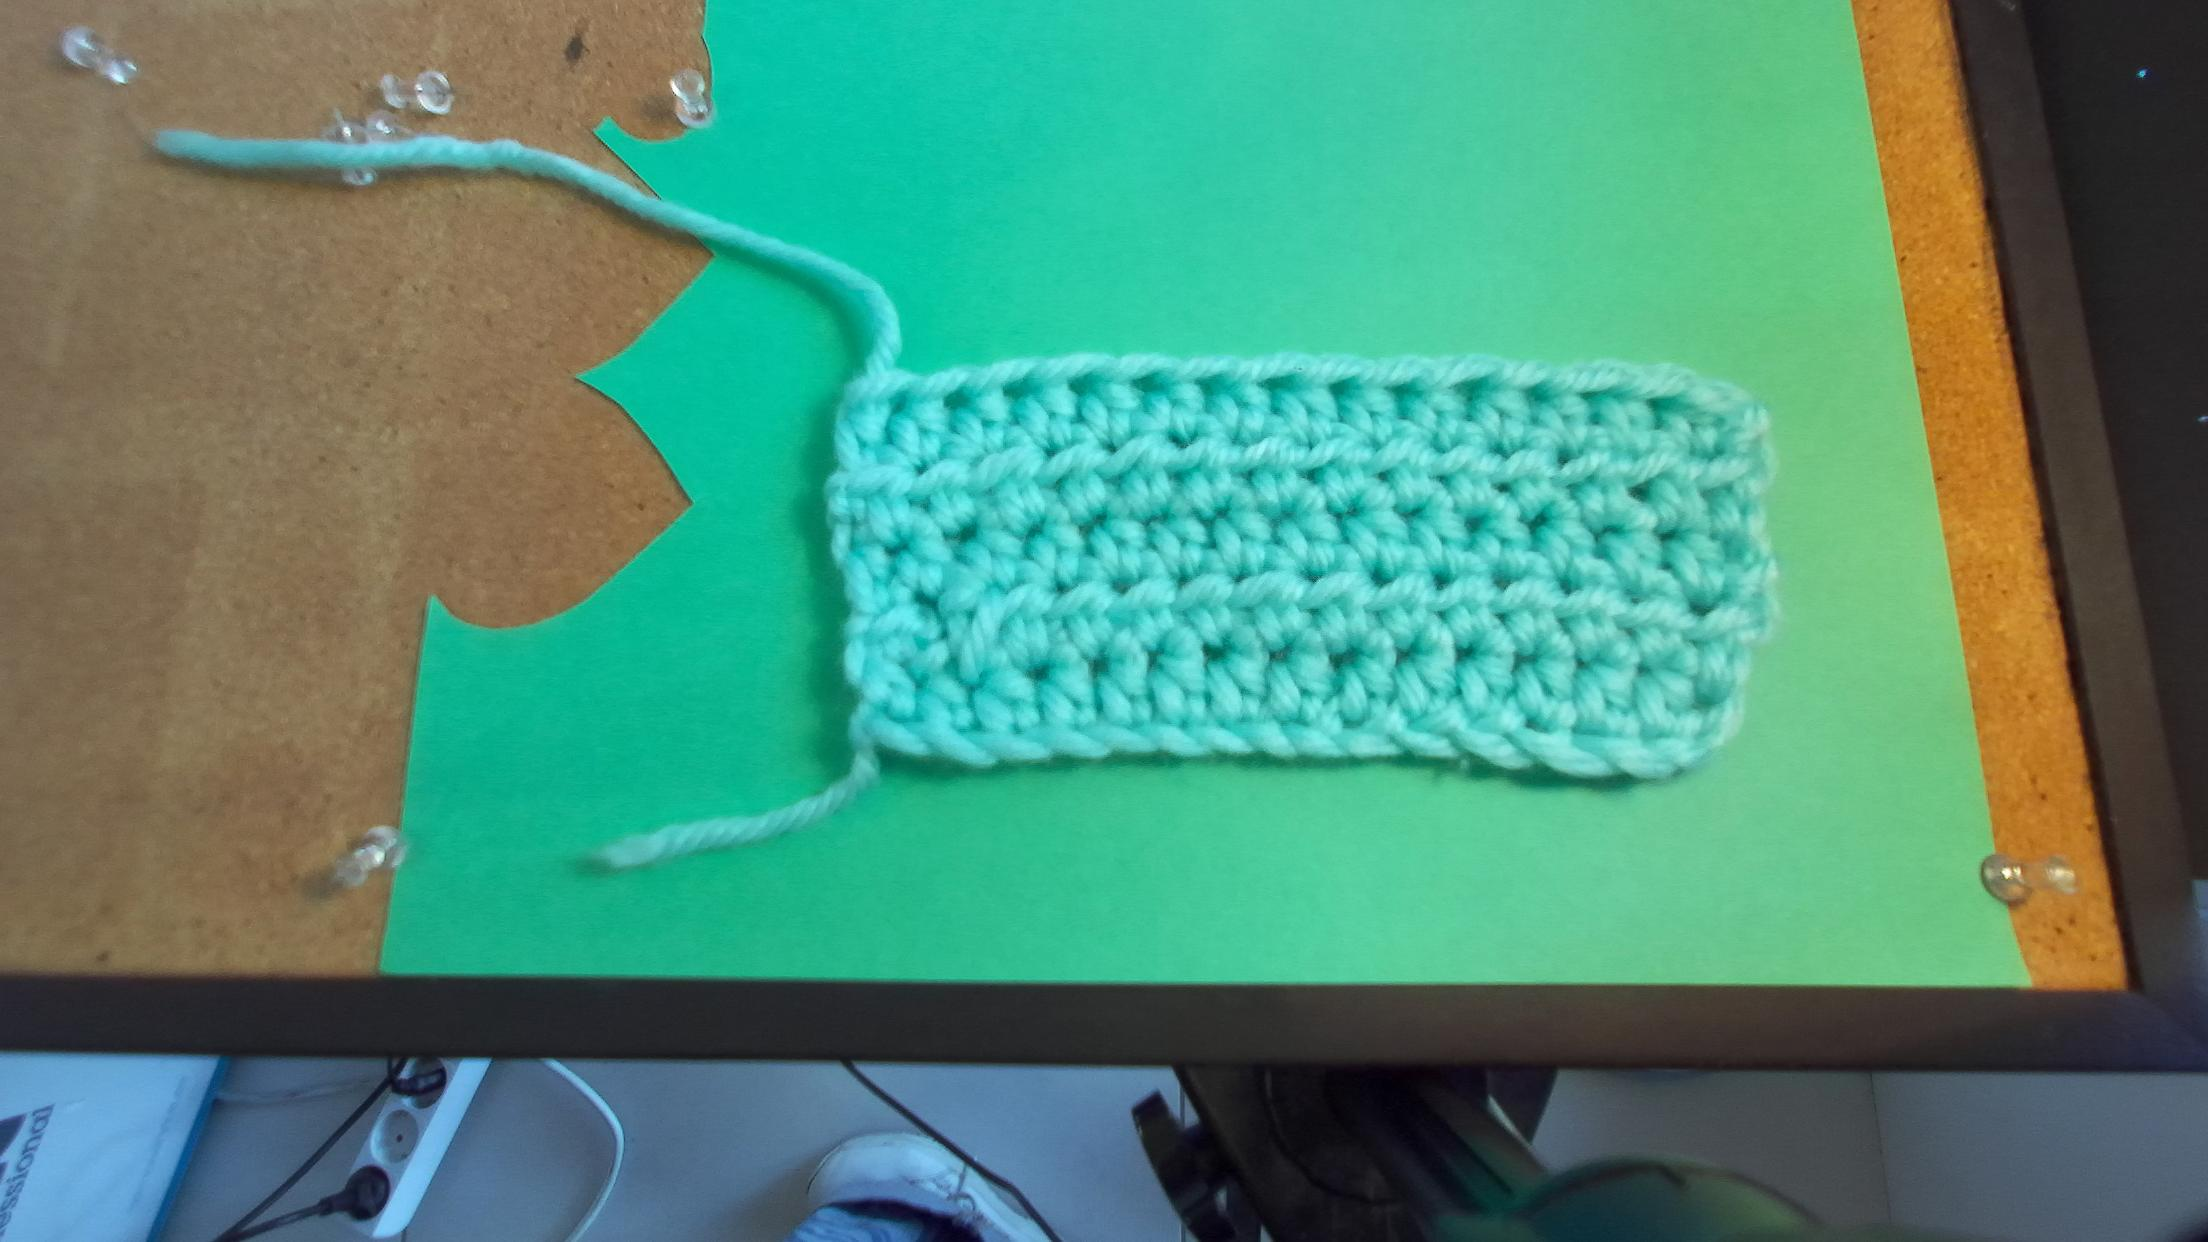hole: (1447, 375, 1491, 402), (1192, 373, 1233, 400), (1004, 376, 1040, 403), (942, 384, 975, 412), (1641, 393, 1677, 419), (1253, 373, 1300, 393), (1128, 372, 1169, 393), (1382, 378, 1419, 400), (1513, 379, 1548, 403), (886, 387, 910, 417), (1325, 375, 1356, 396), (1066, 373, 1093, 396), (1574, 387, 1611, 403)
swatch: (830, 353, 1780, 790)
